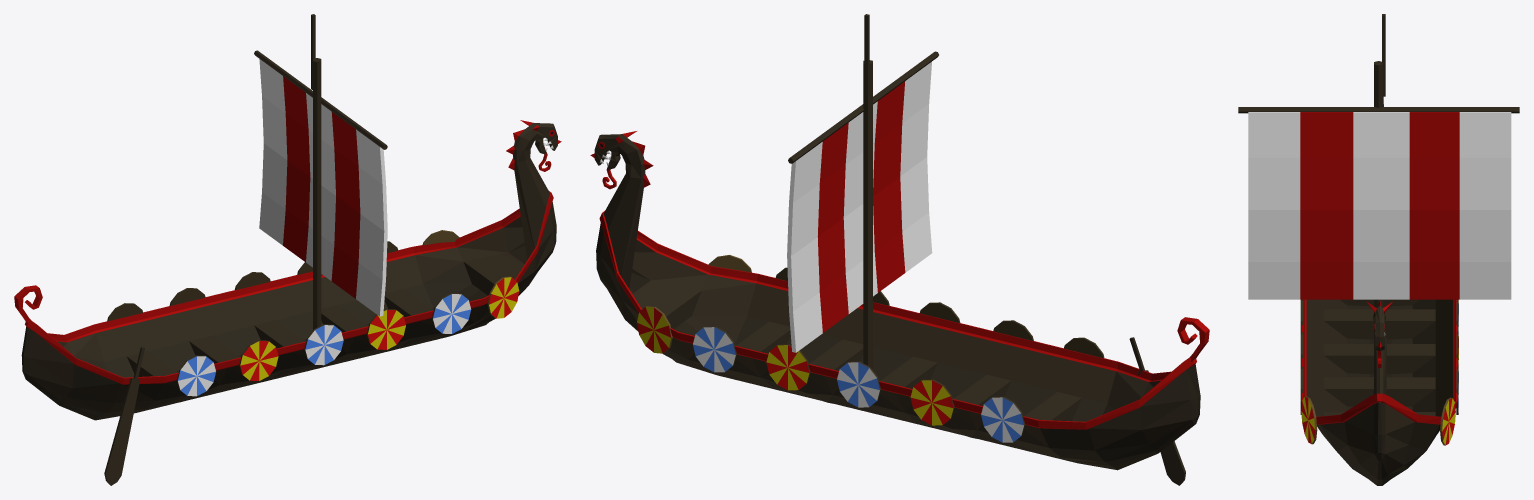
File: Curved_Sail.fbx
3 renders of one model, left to right at view 1: azimuth 30°, elevation 25°; view 2: azimuth 150°, elevation 25°; view 3: azimuth 270°, elevation 25°, orthographic. The views are drawn at different scales.
Parts seen in each view (by area): view 1: Ship_05, Sail; view 2: Ship_05, Sail; view 3: Sail, Ship_05.
Boxes of the visible parts, x1,y1,x2,y2 form: Ship_05: [14, 14, 561, 485]; Sail: [259, 59, 387, 316]; Ship_05: [590, 14, 1209, 485]; Sail: [787, 62, 932, 352]; Sail: [1248, 112, 1511, 299]; Ship_05: [1238, 14, 1519, 485].
Bounding box in the file's own units: 3082 × 2076 × 1262.
